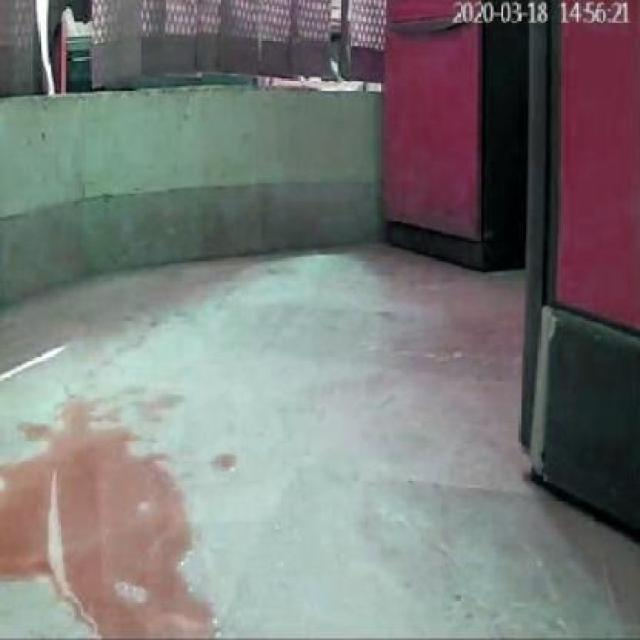spillage: (0, 398, 217, 638)
